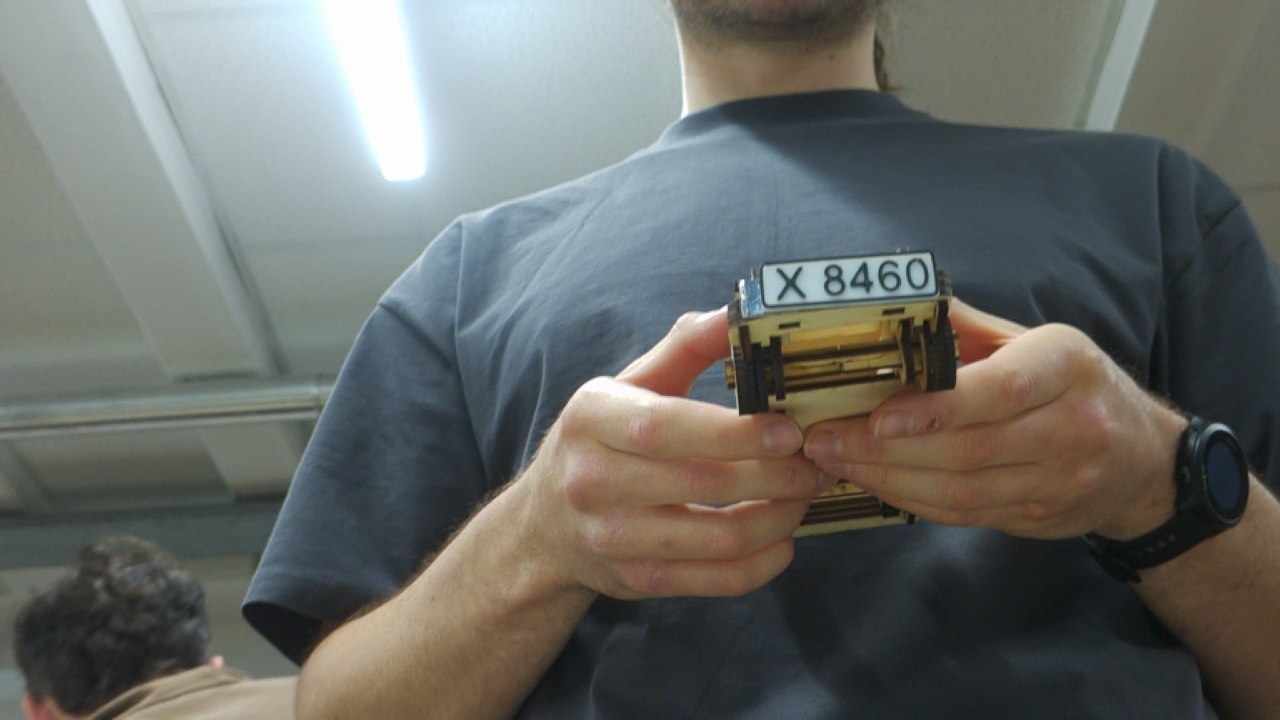license_plate: (758, 245, 944, 314)
